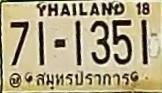1: (140, 19, 148, 64), (74, 20, 80, 66), (39, 21, 44, 66)
3: (90, 20, 109, 63)
5: (111, 19, 132, 64)
7: (10, 21, 28, 65)
SPK: (34, 69, 131, 87)
